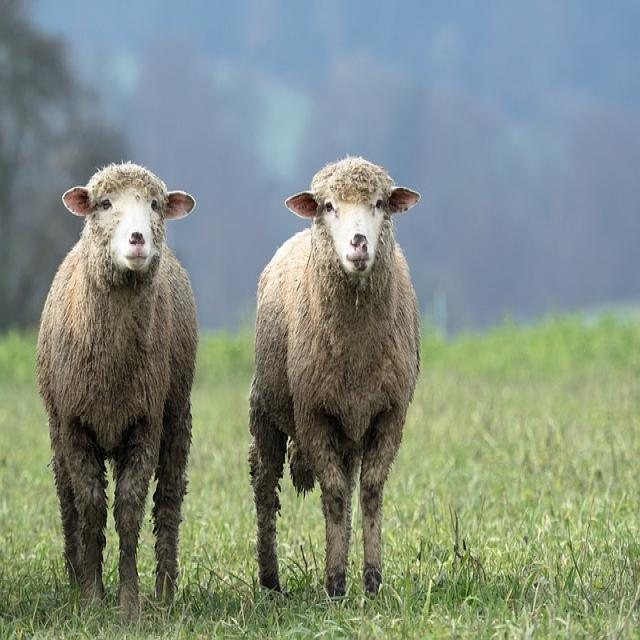goat: (248, 157, 421, 600), (36, 163, 200, 625)
